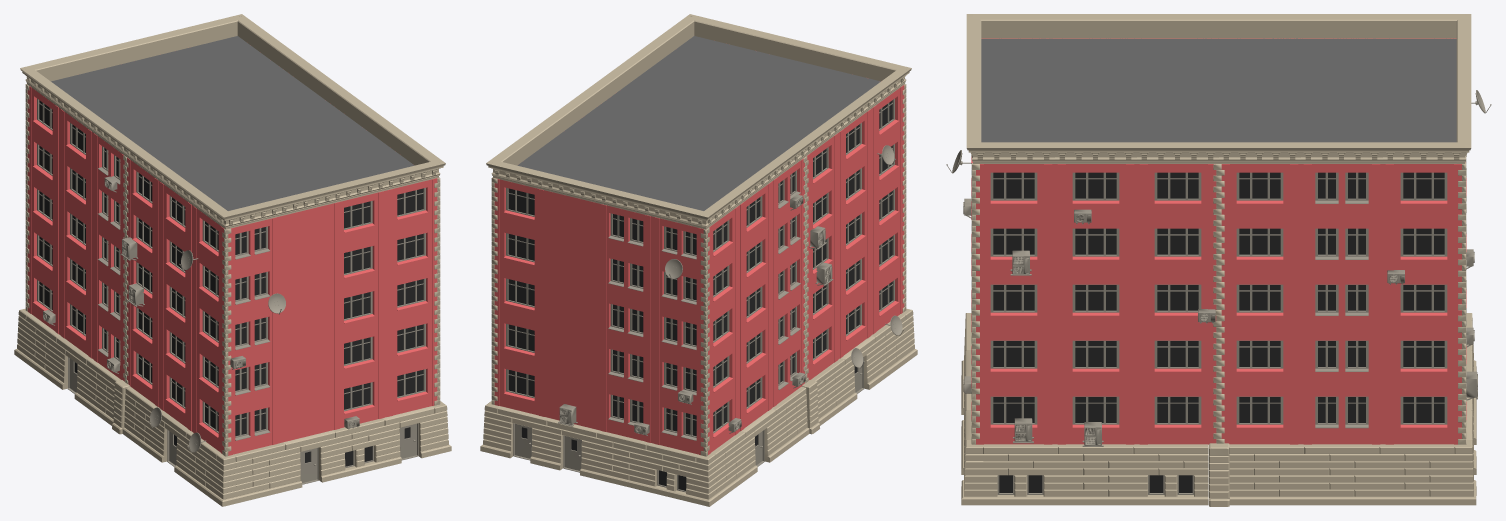
The model's file is Building5.fbx.
3 renders of one model, left to right at view 1: azimuth 30°, elevation 25°; view 2: azimuth 150°, elevation 25°; view 3: azimuth 270°, elevation 25°, orthographic. The views are drawn at different scales.
Parts seen in each view (by area): view 1: air_vent_a.003; view 2: air_vent_a.003; view 3: air_vent_a.003.
Boxes of the visible parts, x1=… form: air_vent_a.003: x1=14, y1=14, x2=451, y2=506; air_vent_a.003: x1=480, y1=14, x2=917, y2=506; air_vent_a.003: x1=946, y1=14, x2=1491, y2=506.
Bounding box in the file's own units: 1682 × 1901 × 2644.
